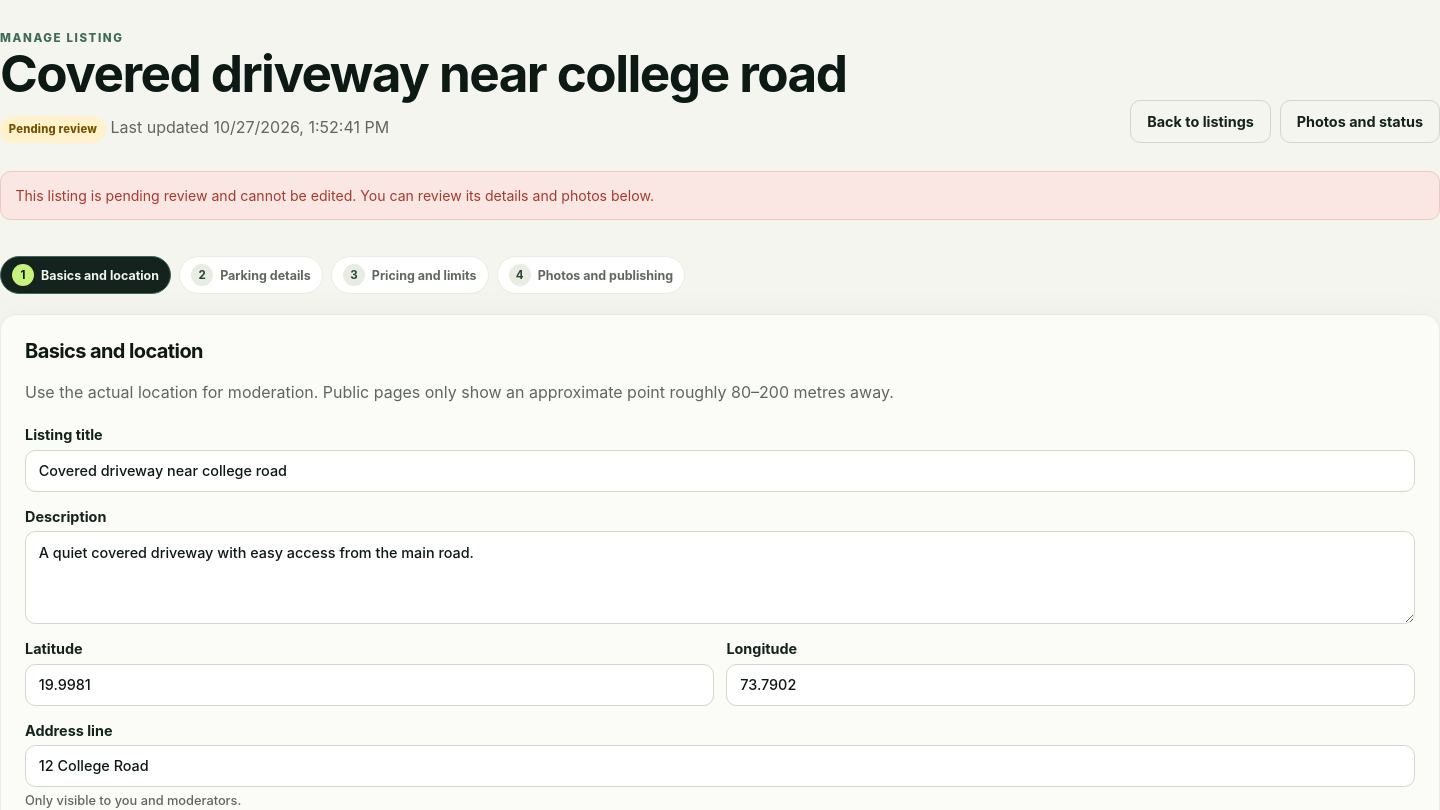
it: OwnerListingEditorPage › allows pending photos to change without unlocking listing fields
Check: the field labelled "Listing title" is disabled, box [25, 450, 1415, 492]
Click the button "Photos and status" at (1360, 121), box [1280, 100, 1439, 143]
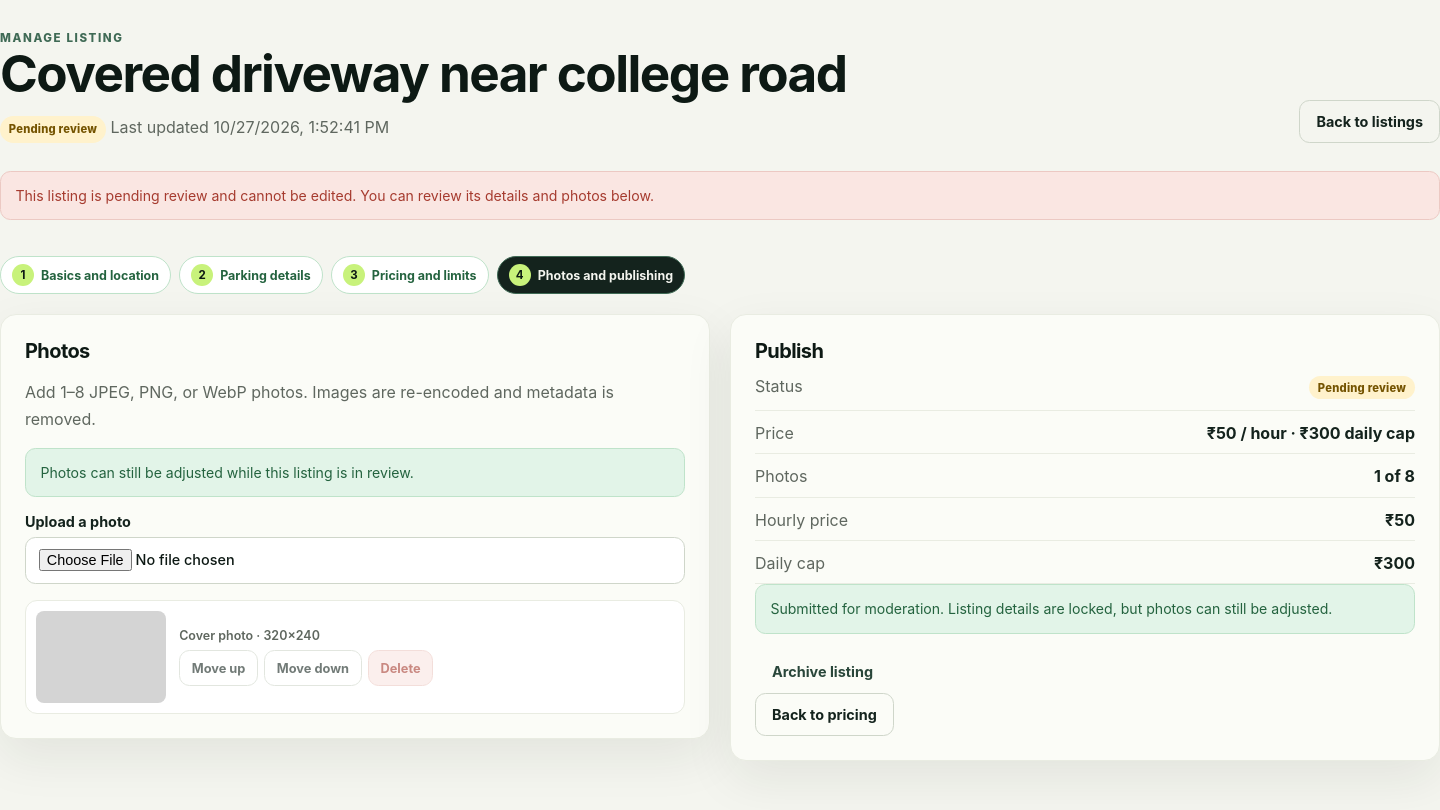
Check: the file field labelled "Upload a photo" is enabled, box [25, 536, 685, 584]
Check: the text "Photos can still be adjusted while this listing is in review." is shown, box [25, 448, 685, 497]
Check: the button "Delete" is disabled, box [368, 650, 433, 686]
